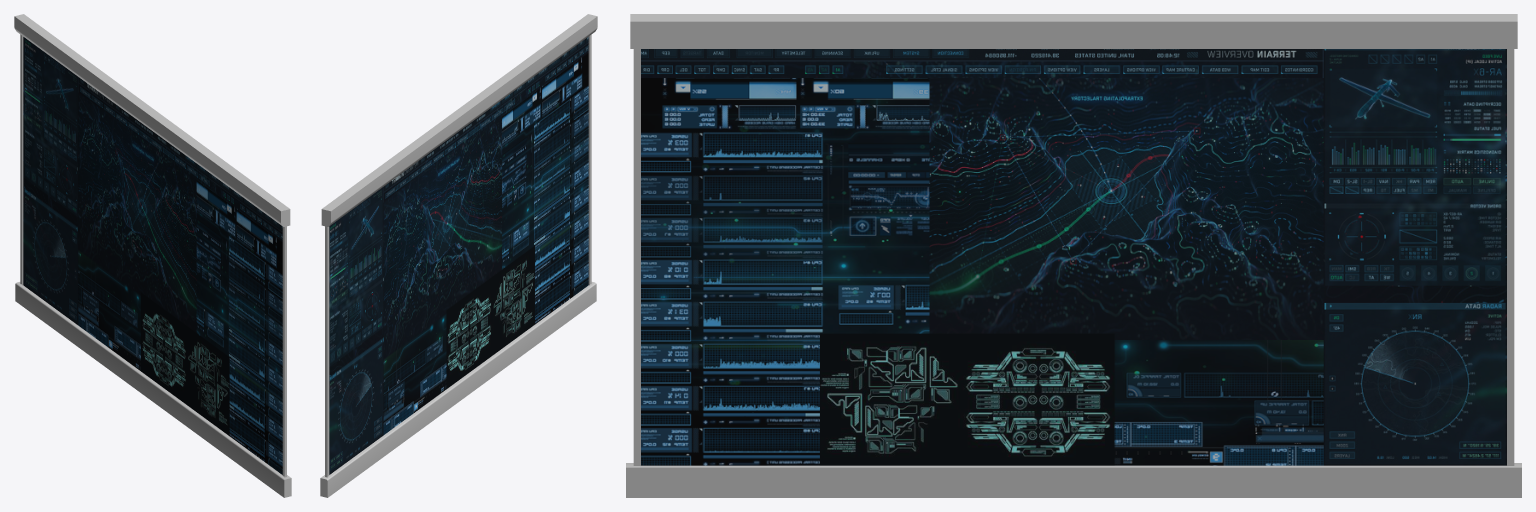
The model's file is Monitor_06.fbx.
The picture shows the model from 3 angles, left to right: view 1: azimuth 30°, elevation 25°; view 2: azimuth 150°, elevation 25°; view 3: azimuth 270°, elevation 25°; orthographic projection. The views are drawn at different scales.
Visible parts, largest first — view 1: Monitor_03; view 2: Monitor_03; view 3: Monitor_03.
Part boxes in pixels (bbox=[...]): Monitor_03: bbox=[14, 14, 291, 497]; Monitor_03: bbox=[320, 14, 597, 497]; Monitor_03: bbox=[626, 14, 1521, 497].
Bounding box in the file's own units: 5.73 × 167 × 284.
